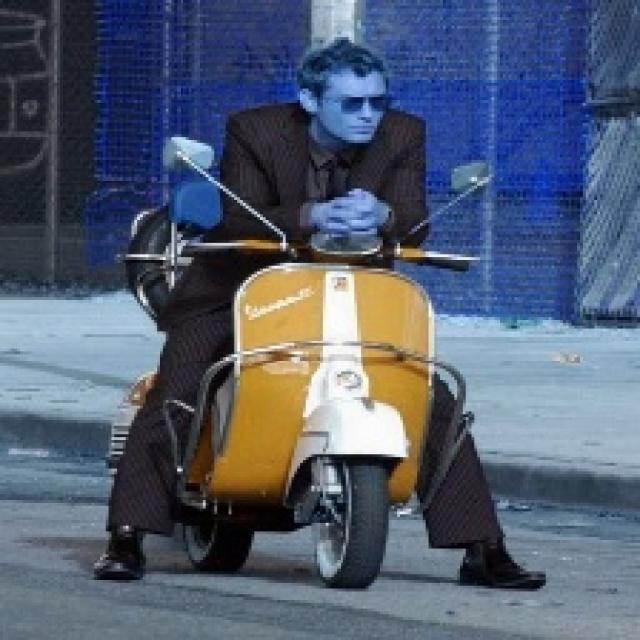bike: (178, 238, 456, 588)
